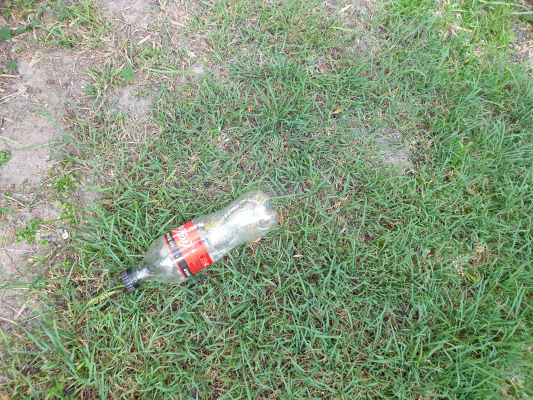Plastic Bottle: (120, 190, 278, 292)
